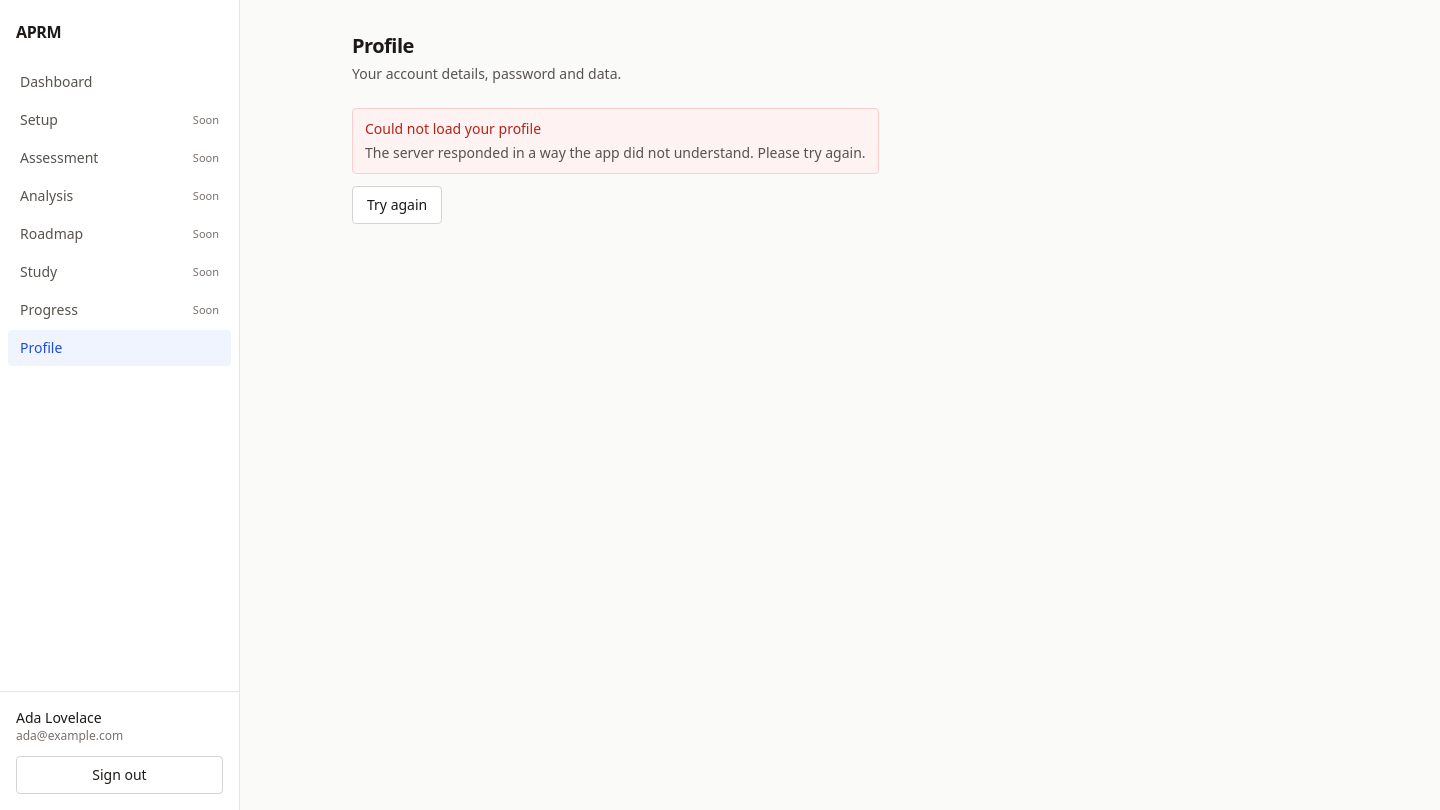
ProfilePage › shows an error with a retry when the profile cannot be loaded
Expected: the message shows "Could not load your profile", [365,119,541,138]
Click the button "Try again": (397, 205) [352,186,442,224]
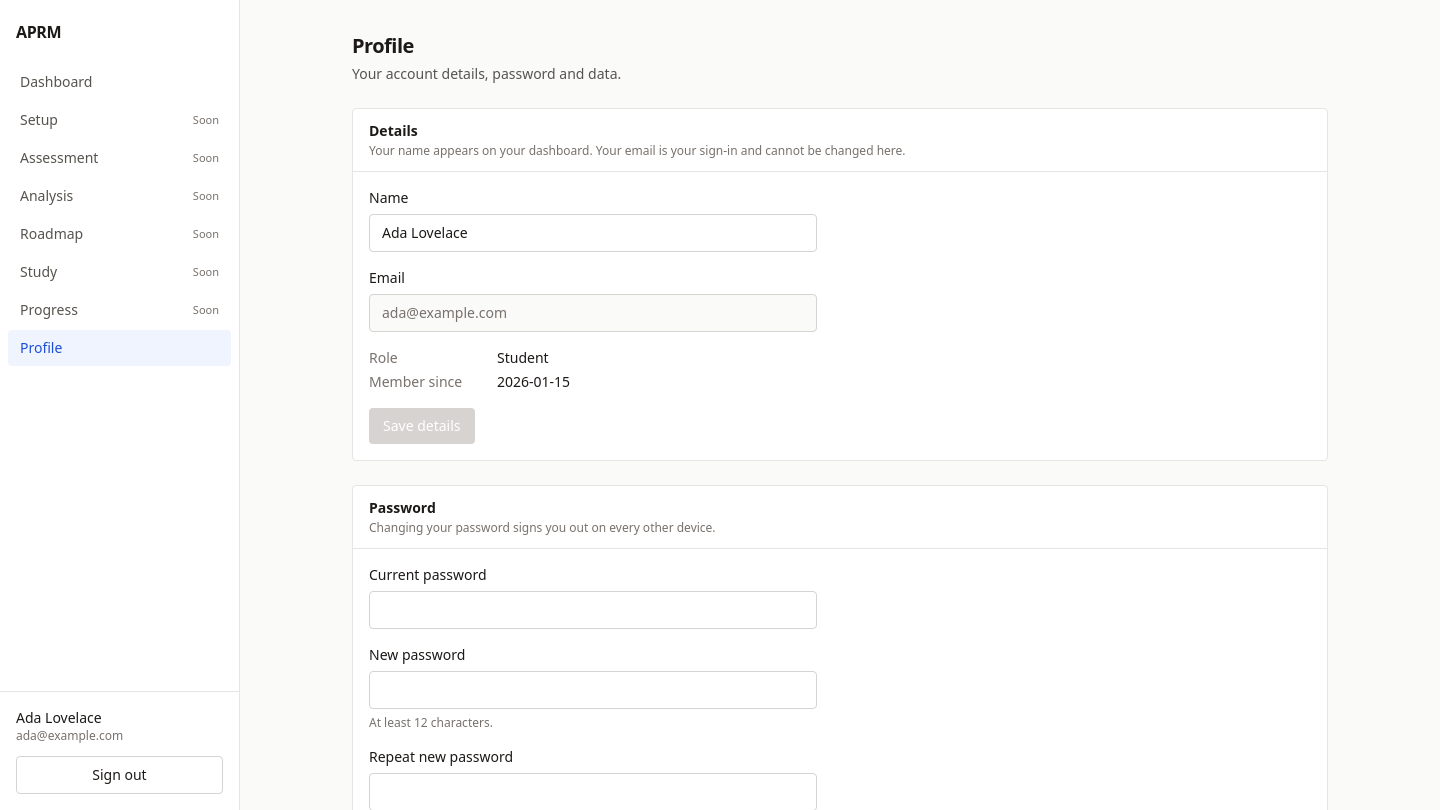
Expected: the field labelled "Name" holds "Ada Lovelace", [369,214,817,252]
